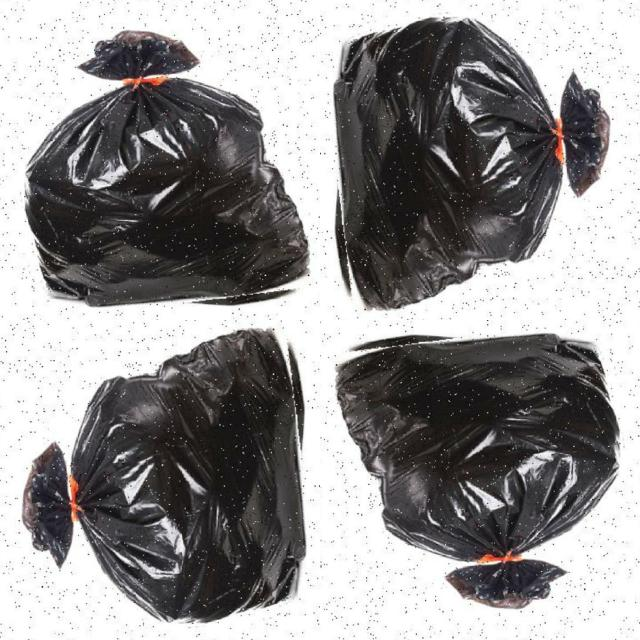Single-layer Plastic: (22, 330, 305, 621), (335, 18, 609, 309), (26, 31, 309, 305), (338, 334, 619, 609)
